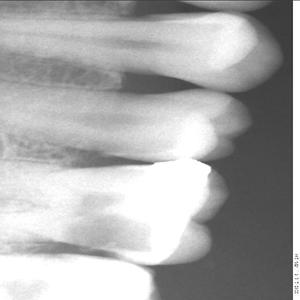tooth: (0, 155, 228, 266), (0, 9, 285, 92), (0, 81, 252, 163)
